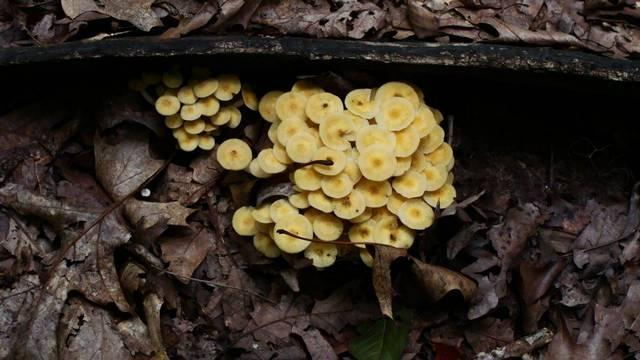edible_mushroom: (221, 77, 457, 268), (138, 59, 265, 170)
